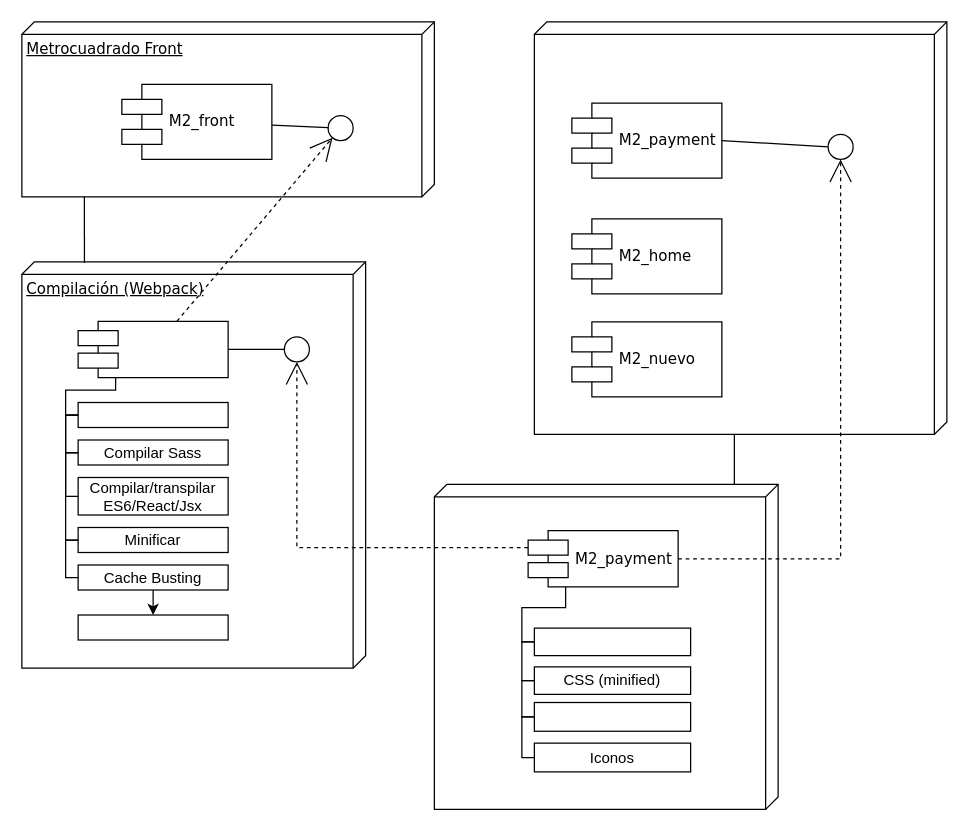
Some shapes in this 969 by 831 pixel diagram are drawn without their labels. Here are the shapes that lost their labels. From the top down, the box of each, then its label:
(533, 21, 947, 434): Metrocuadrado Modulos
(77, 320, 228, 378): Sources
(77, 401, 228, 428): Validador/Testing
(77, 614, 228, 640): Bundle
(433, 483, 778, 809): Metrocuadrado Statics
(533, 627, 691, 656): JS (minified)
(533, 701, 691, 731): Imagenes
